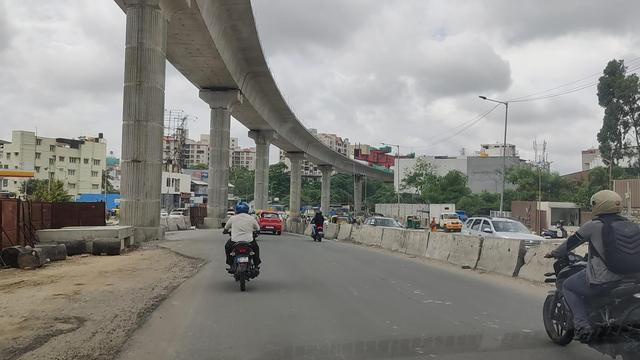LMV: (226, 200, 258, 285), (308, 208, 325, 244), (259, 212, 281, 232)
RoadDamages: (108, 291, 176, 360), (151, 242, 209, 283)
UnsurfacedRoad: (2, 263, 109, 357)
